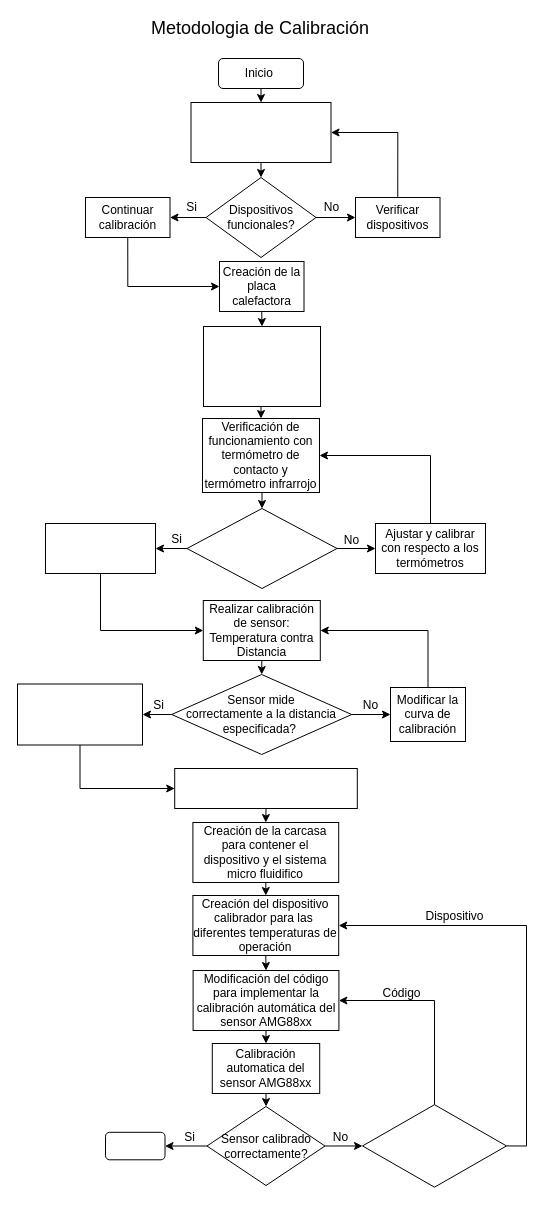
Image size: 552x1205. Some labels were removed from this diagram. The box of each missing label's shape, as (x1, y1, x2, y2) in pixels:
Calibración con factor de transmisión de acrílico de 2mm: (174, 768, 357, 808)
Continuar con la calibración automática del sensor AMG88xx: (16, 683, 142, 745)
Continuar con la calibración del sensor AMG88xx: (44, 522, 156, 574)
Fin: (104, 1131, 165, 1160)
Obtención de termómetro de contacto y termómetro infrarrojo: (190, 102, 331, 162)
Placa calefactora calibrada?: (186, 508, 337, 588)
Problema de código o del dispositivo calibrador: (362, 1104, 506, 1187)
Verificación de funcionamiento de la placa con las sondas incorporadas: (202, 326, 320, 406)
